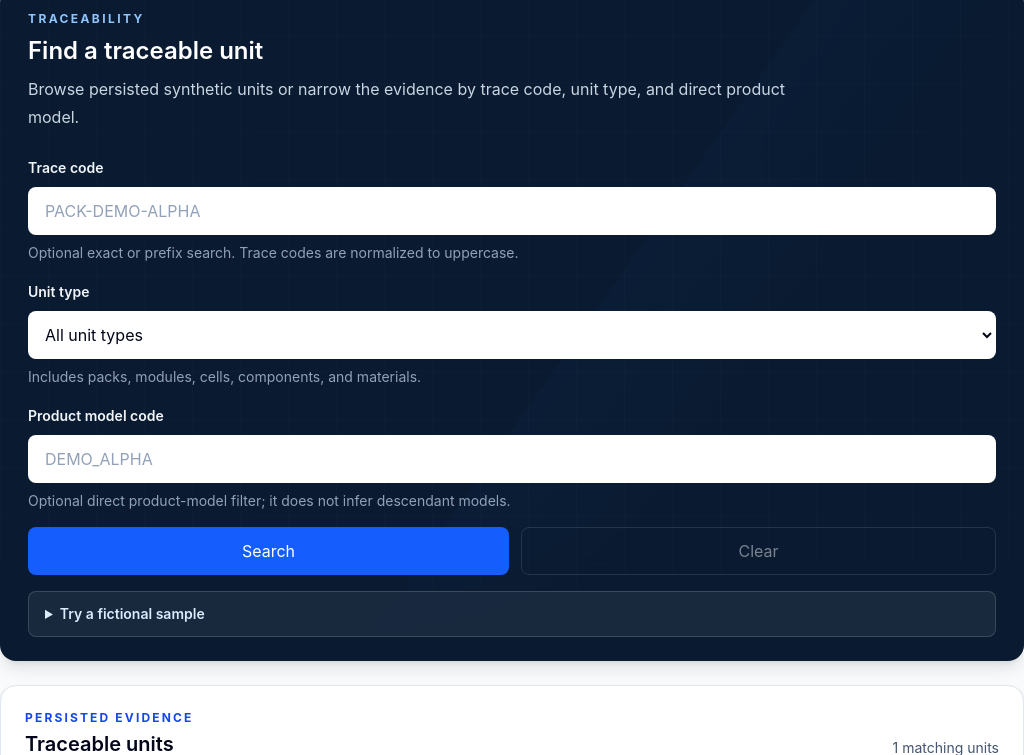
Test: traceability search › supports keyboard sample selection with a visible focus contract
Click the heading "Try a fictional sample": [132, 614] box [60, 605, 205, 622]
(page scrolled)
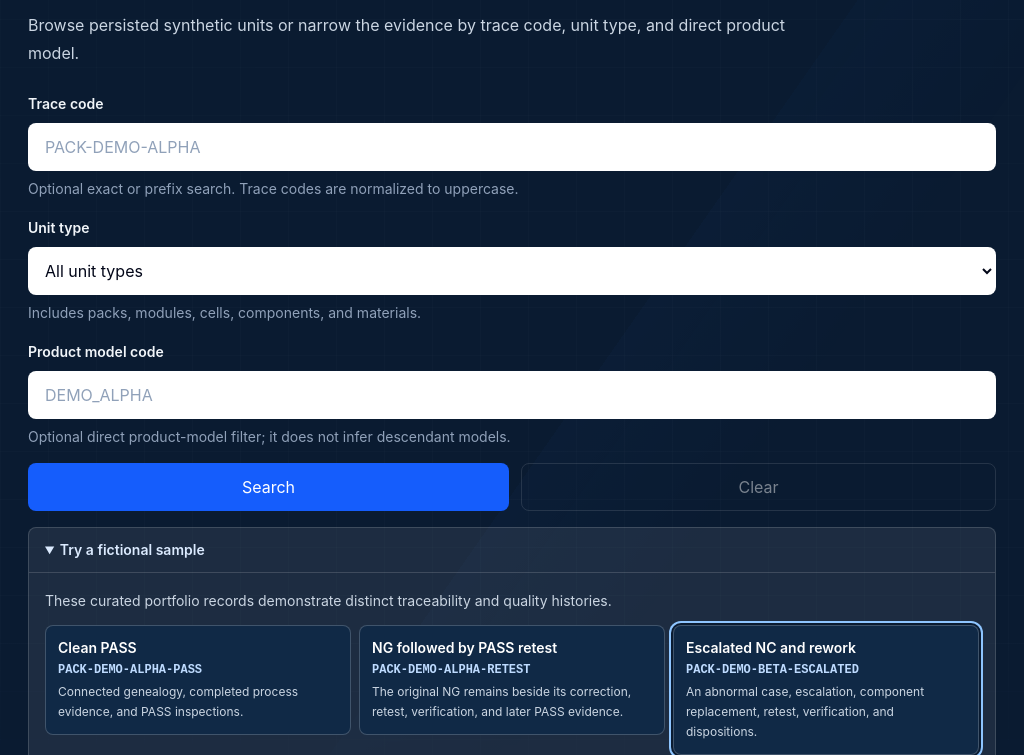
Press Enter
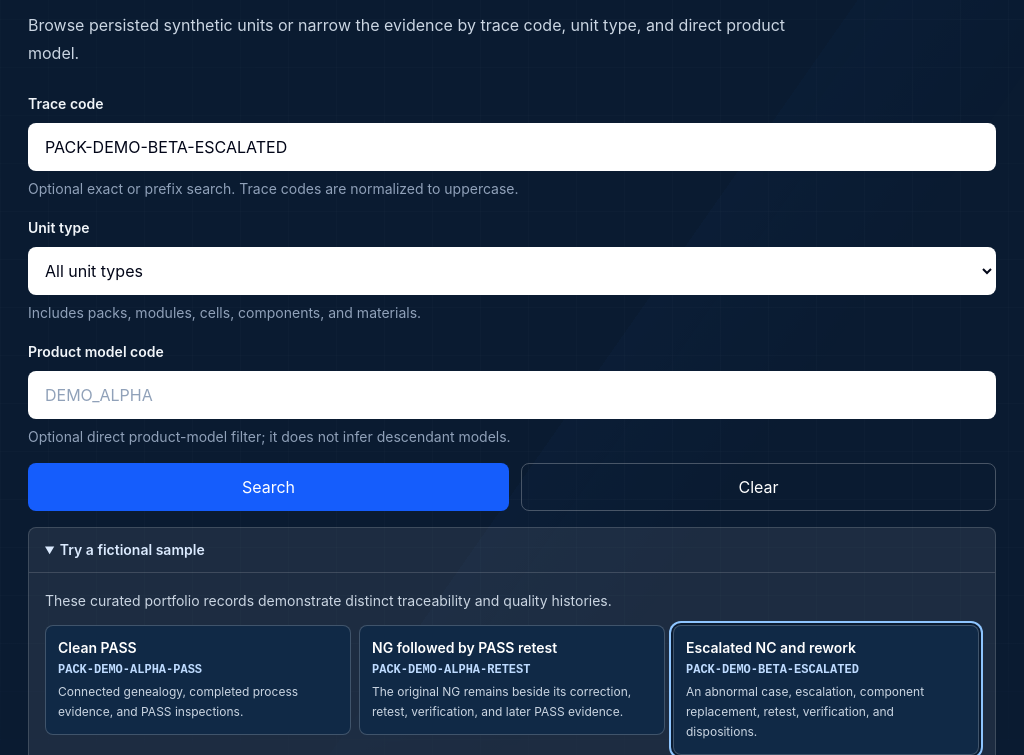
Check: the field labelled "Trace code" holds "PACK-DEMO-BETA-ESCALATED", box [28, 123, 996, 171]
